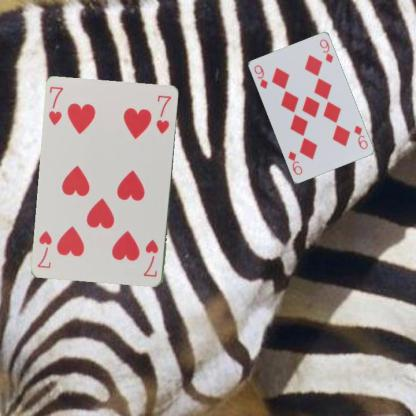7h: (46, 84, 65, 126), (141, 238, 159, 278)
9d: (250, 63, 268, 90), (351, 123, 369, 150)
